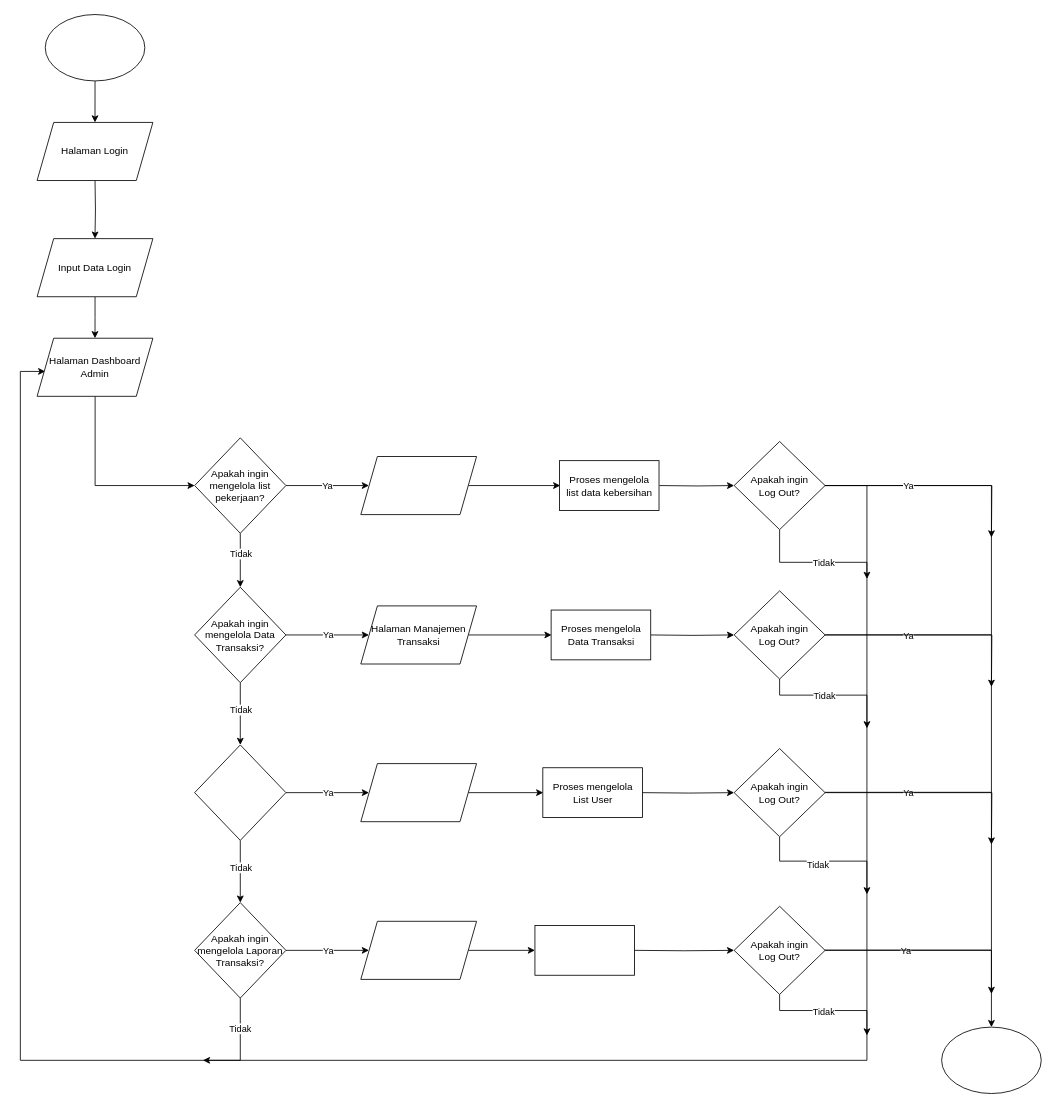
The diagram is 1056 pixels wide and 1108 high, and some of its shapes have lost their labels. The centre of each missing label's shape, as x and y in pixels:
"Apakah ingin mengelola List User?" goes at pixel 240 792.
"Halaman Laporan" goes at pixel 418 949.
"Halaman Manajemen list Pekerjaan" goes at pixel 418 485.
"Halaman Manajemen User" goes at pixel 418 792.
"Mulai" goes at pixel 94 47.
"Proses mengelola Laporan Transaksi" goes at pixel 584 950.
"Selesai" goes at pixel 991 1060.
